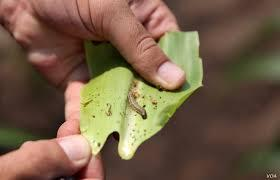fallarmy_worm: (123, 87, 149, 121)
